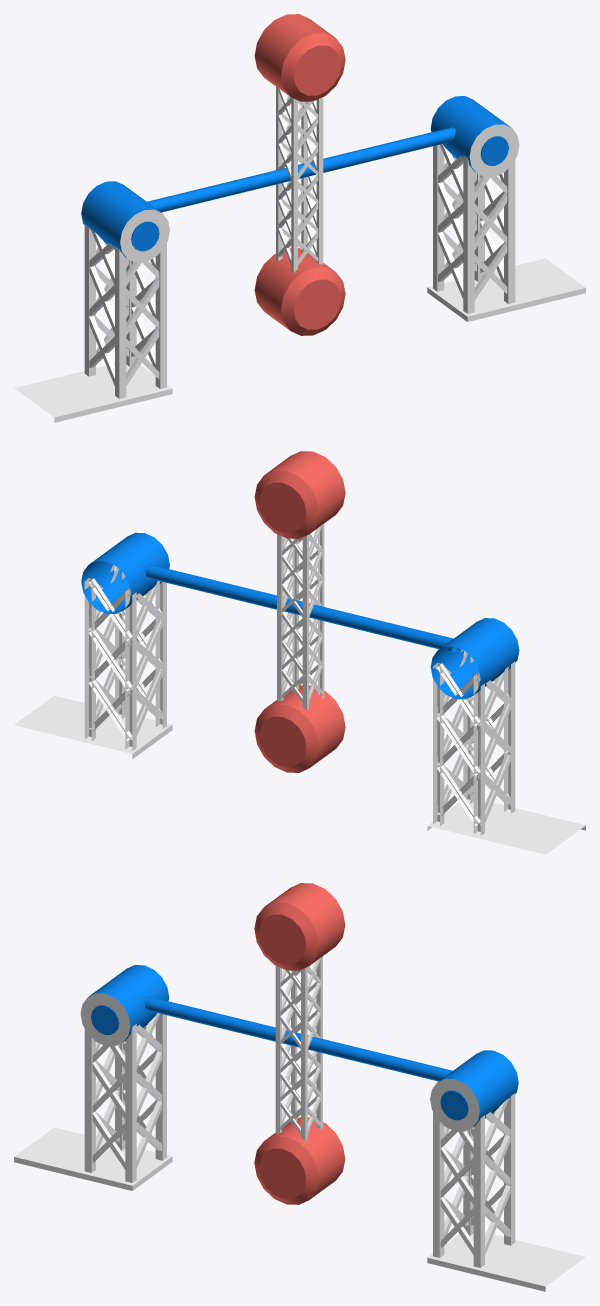
Rendered from Object_Hammer.FBX.
3 renders of one model, top to bottom at view 1: azimuth 30°, elevation 25°; view 2: azimuth 150°, elevation 25°; view 3: azimuth 330°, elevation 25°, orthographic.
Parts seen in each view (by area): view 1: Object_Hammer_1, Hammer_1; view 2: Object_Hammer_1, Hammer_1; view 3: Object_Hammer_1, Hammer_1.
Boxes of the visible parts, x1=… form: Object_Hammer_1: x1=14, y1=96, x2=585, y2=422; Hammer_1: x1=254, y1=14, x2=345, y2=335; Object_Hammer_1: x1=14, y1=532, x2=585, y2=854; Hammer_1: x1=254, y1=451, x2=345, y2=772; Object_Hammer_1: x1=14, y1=965, x2=585, y2=1291; Hammer_1: x1=254, y1=883, x2=345, y2=1204.
Bounding box in the file's own units: 39.54 × 22.68 × 5.23.
